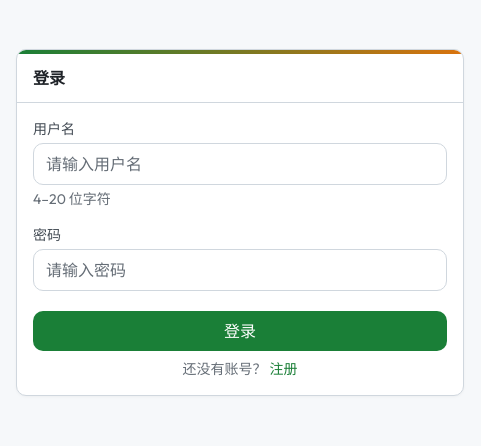
Test: LoginPage › 登录失败时显示错误
Type "a" into the field labelled "用户名" at (240, 164), box x1=33 y1=142 x2=447 y2=184
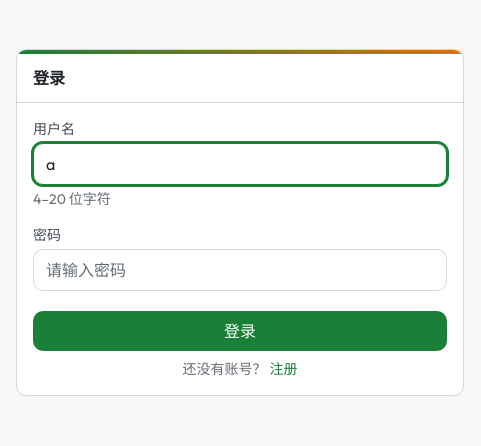
Type "p" into the password field labelled "密码" at (240, 270), box x1=33 y1=248 x2=447 y2=290
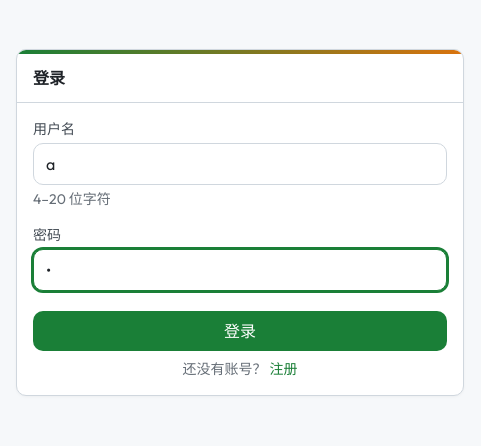
Click the button "登录" at (240, 330), box x1=33 y1=310 x2=447 y2=350
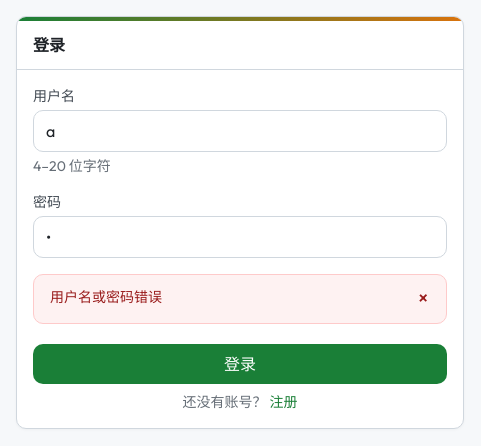
Expected: the message shows "用户名或密码错误", x1=50 y1=288 x2=162 y2=306
